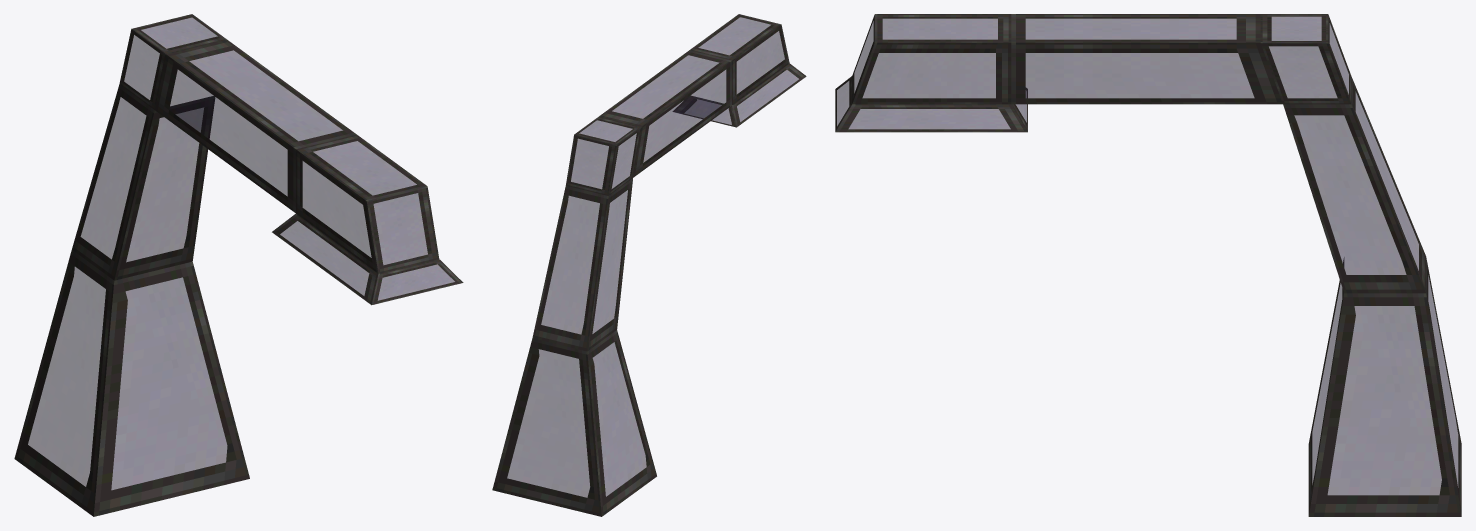
3 renders of one model, left to right at view 1: azimuth 30°, elevation 25°; view 2: azimuth 150°, elevation 25°; view 3: azimuth 270°, elevation 25°, orthographic. The views are drawn at different scales.
Parts seen in each view (by area): view 1: Conft_obj_063; view 2: Conft_obj_063; view 3: Conft_obj_063.
Part boxes in pixels (bbox=[...]): Conft_obj_063: bbox=[14, 14, 463, 516]; Conft_obj_063: bbox=[492, 14, 806, 516]; Conft_obj_063: bbox=[835, 14, 1461, 516].
Size of the model in its own units: 0.7676 by 2.2 by 2.76.
1 material, 1 textured.
